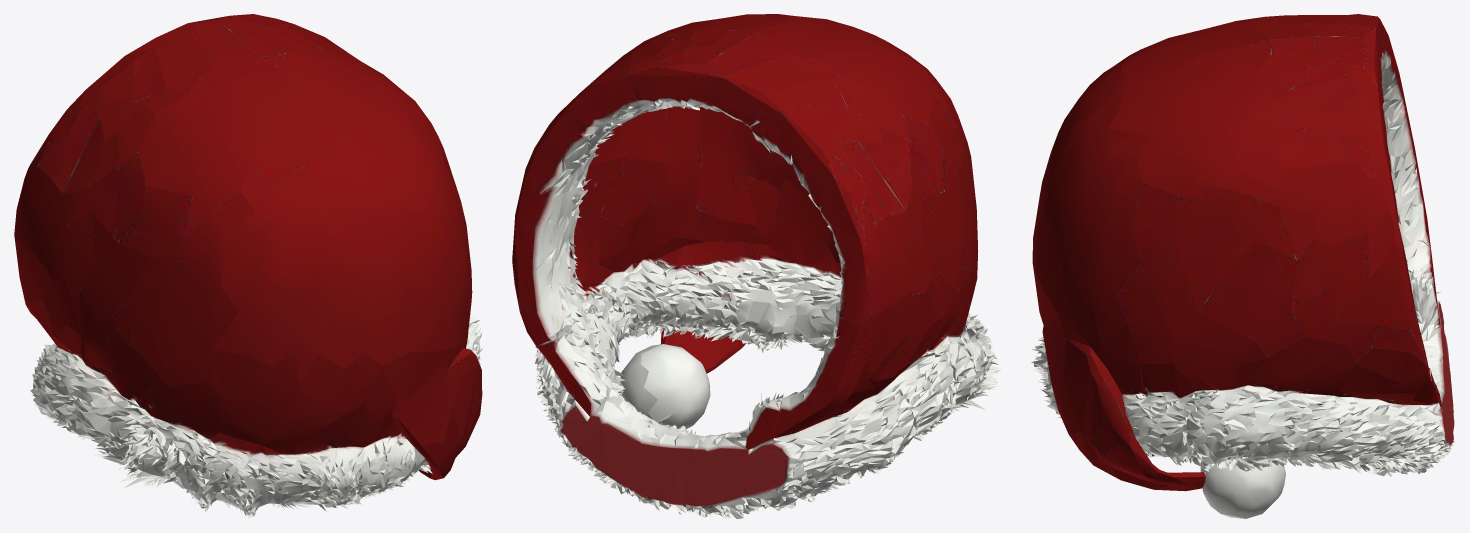
Rendered from santa-hat.glb.
3 renders of one model, left to right at view 1: azimuth 30°, elevation 25°; view 2: azimuth 150°, elevation 25°; view 3: azimuth 270°, elevation 25°, orthographic. The views are drawn at different scales.
Size of the model in its own units: 5.48 by 5.72 by 5.15.
Materials: 1 (1 with a texture image).
